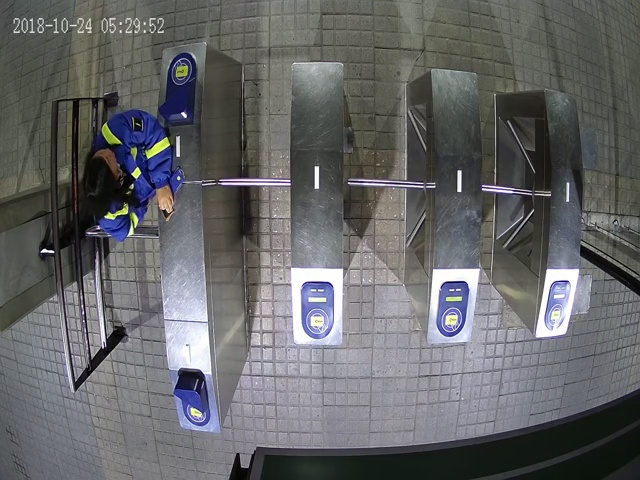Chaleco_azul: (82, 109, 175, 242)
